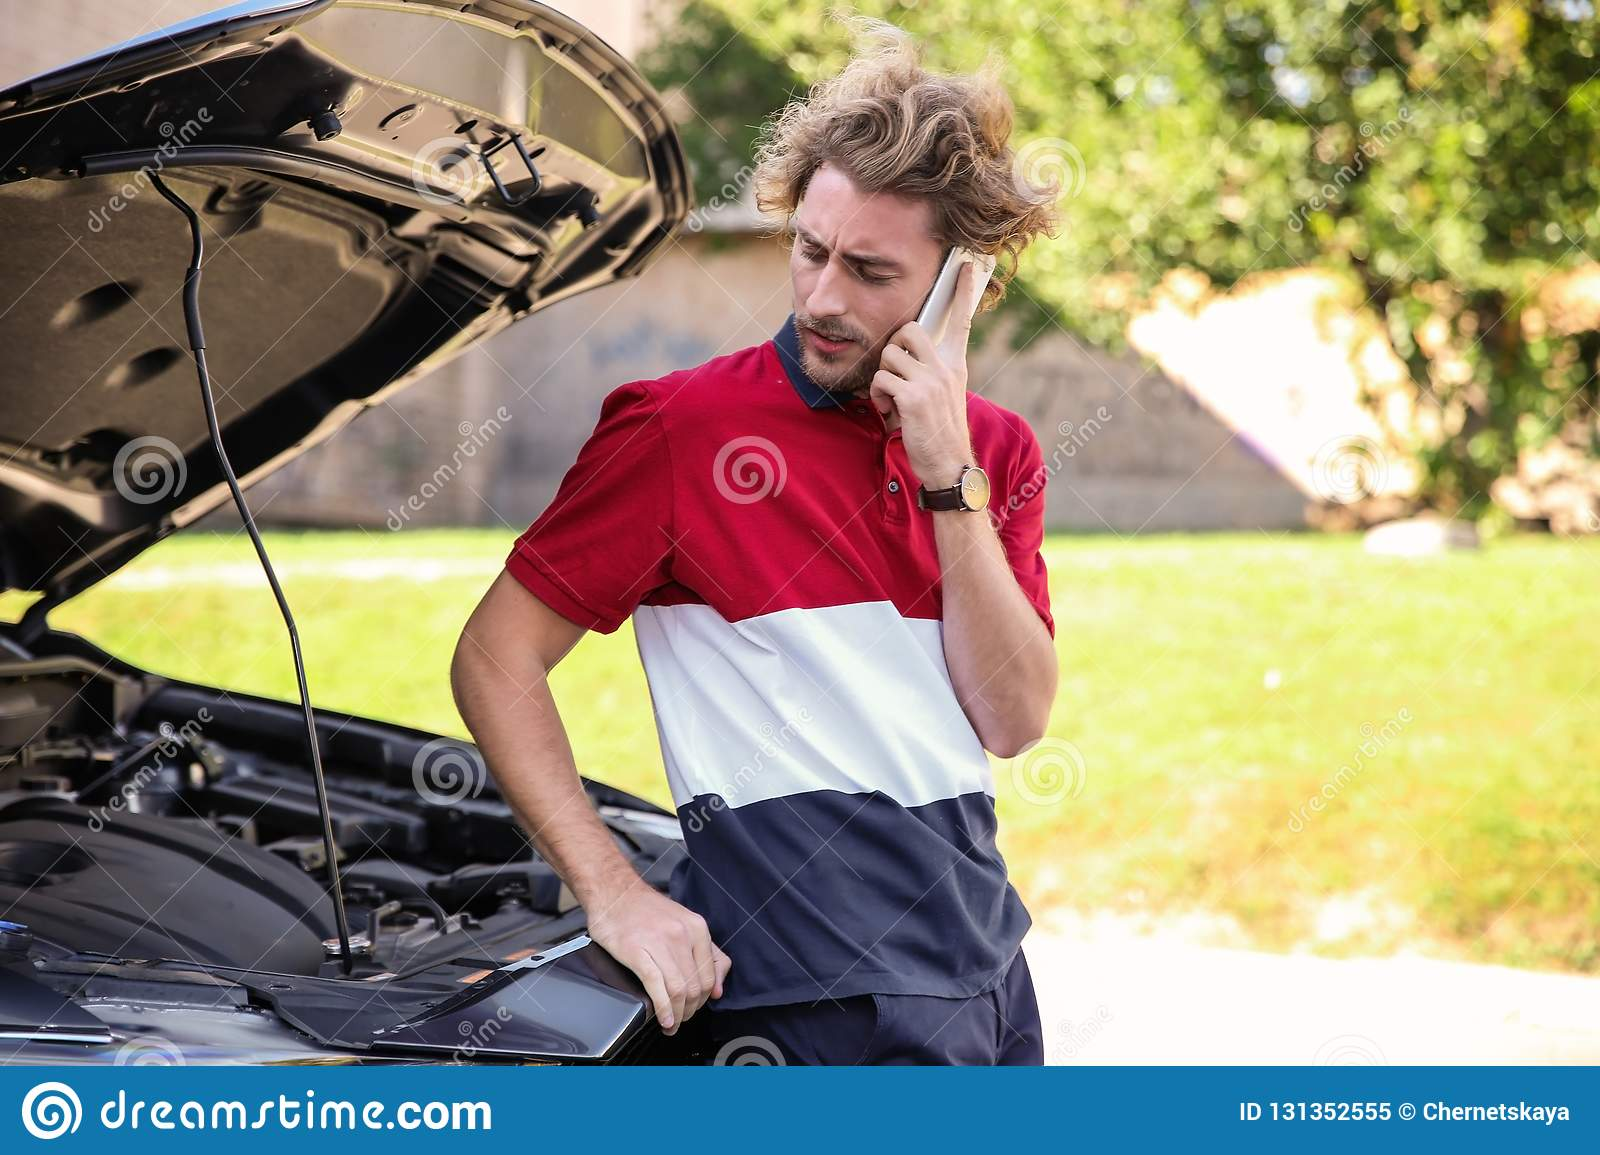phone: (898, 246, 995, 401)
talk: (785, 205, 996, 486)
